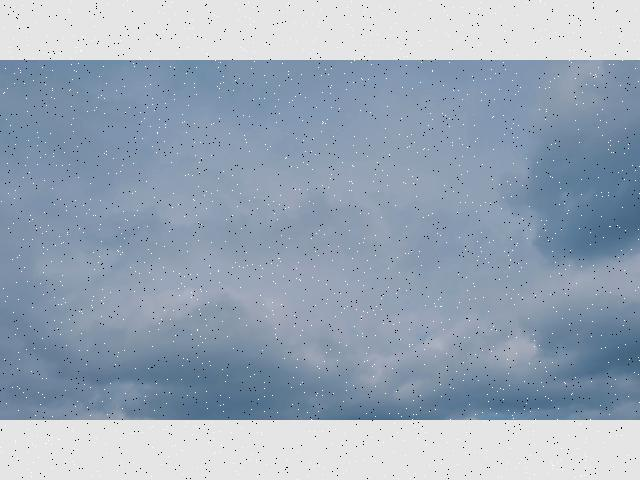Anti-Drone: (268, 203, 278, 217)
